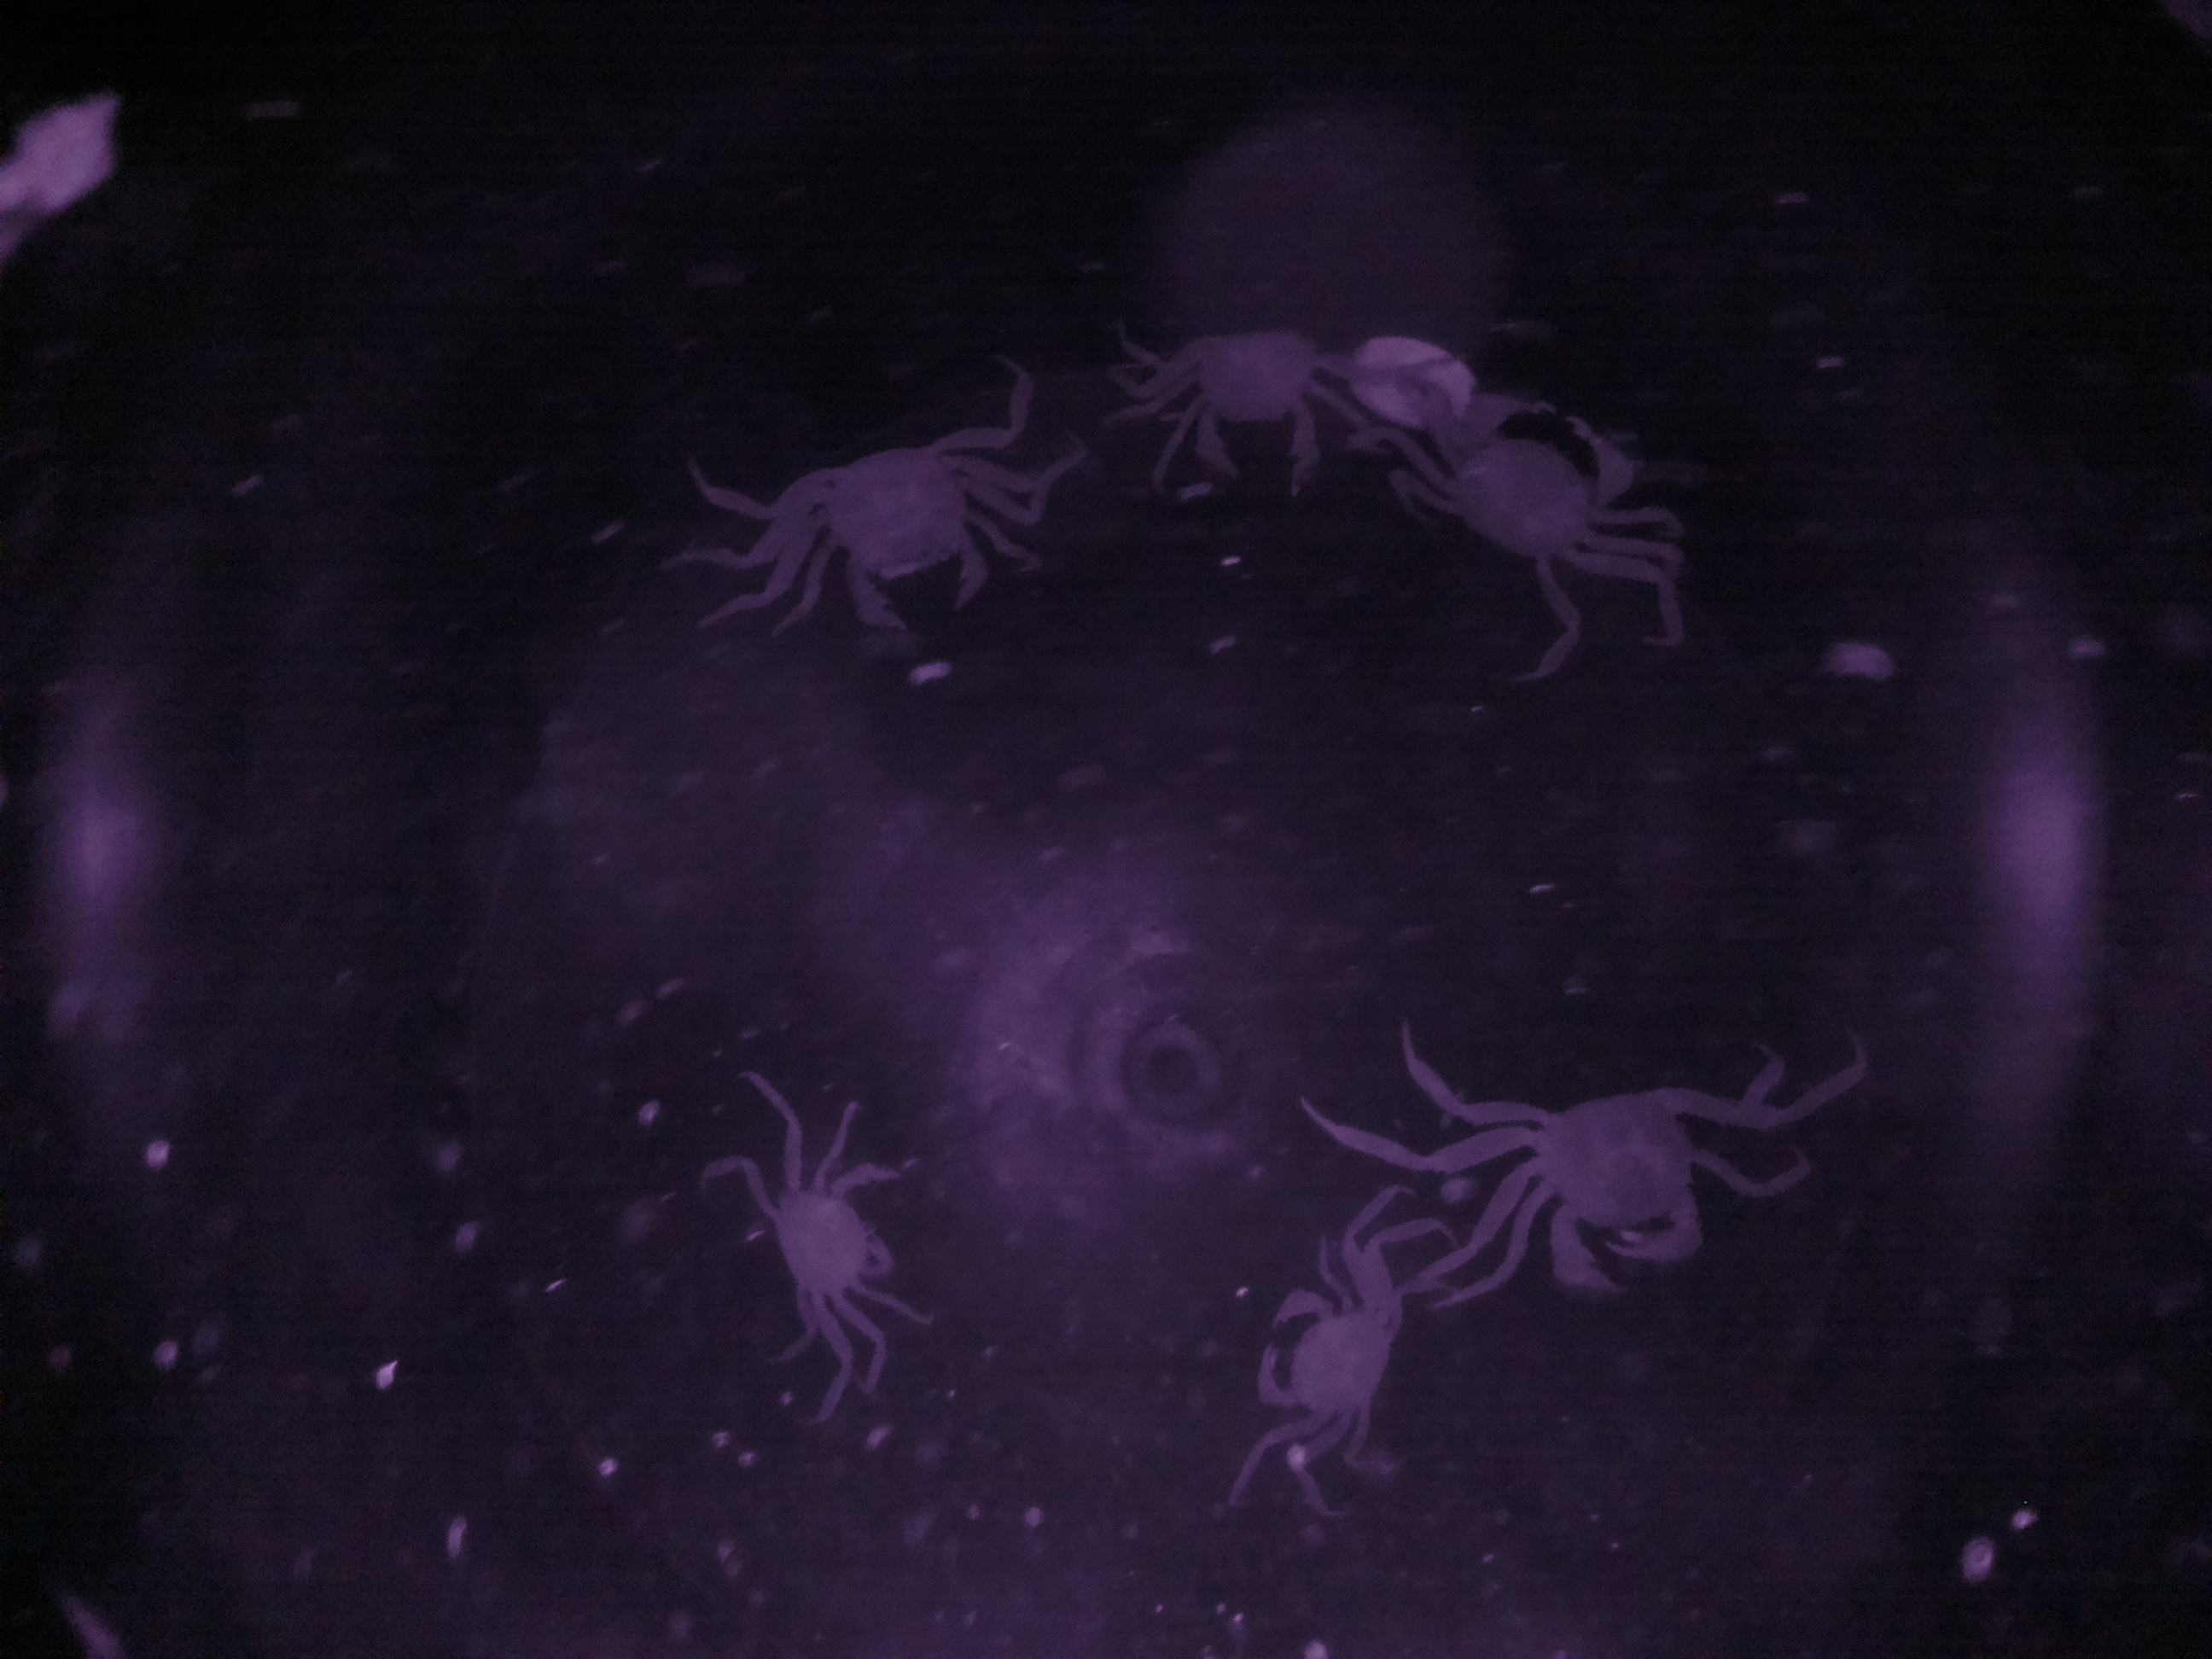Crab: (1453, 1070, 1768, 1316), (770, 413, 1071, 653), (1397, 368, 1663, 603), (733, 1140, 942, 1364), (1249, 1234, 1435, 1478)
